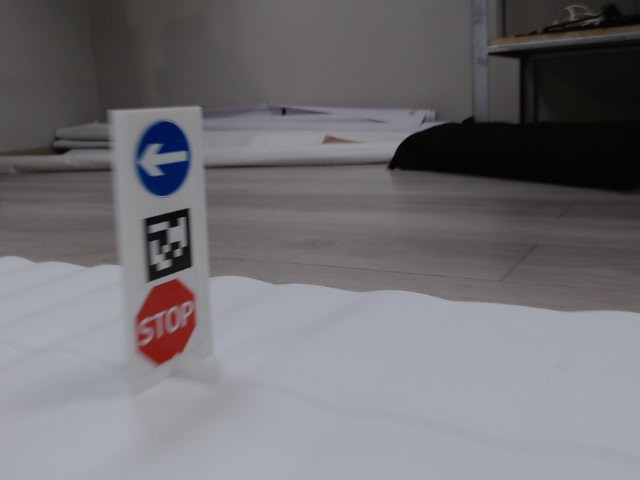Stop: (134, 281, 200, 364)
